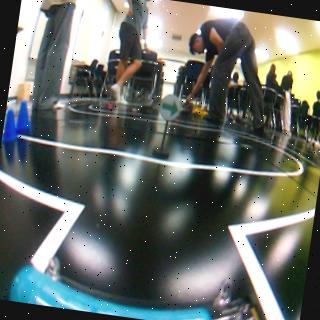right: (158, 92, 181, 122)
